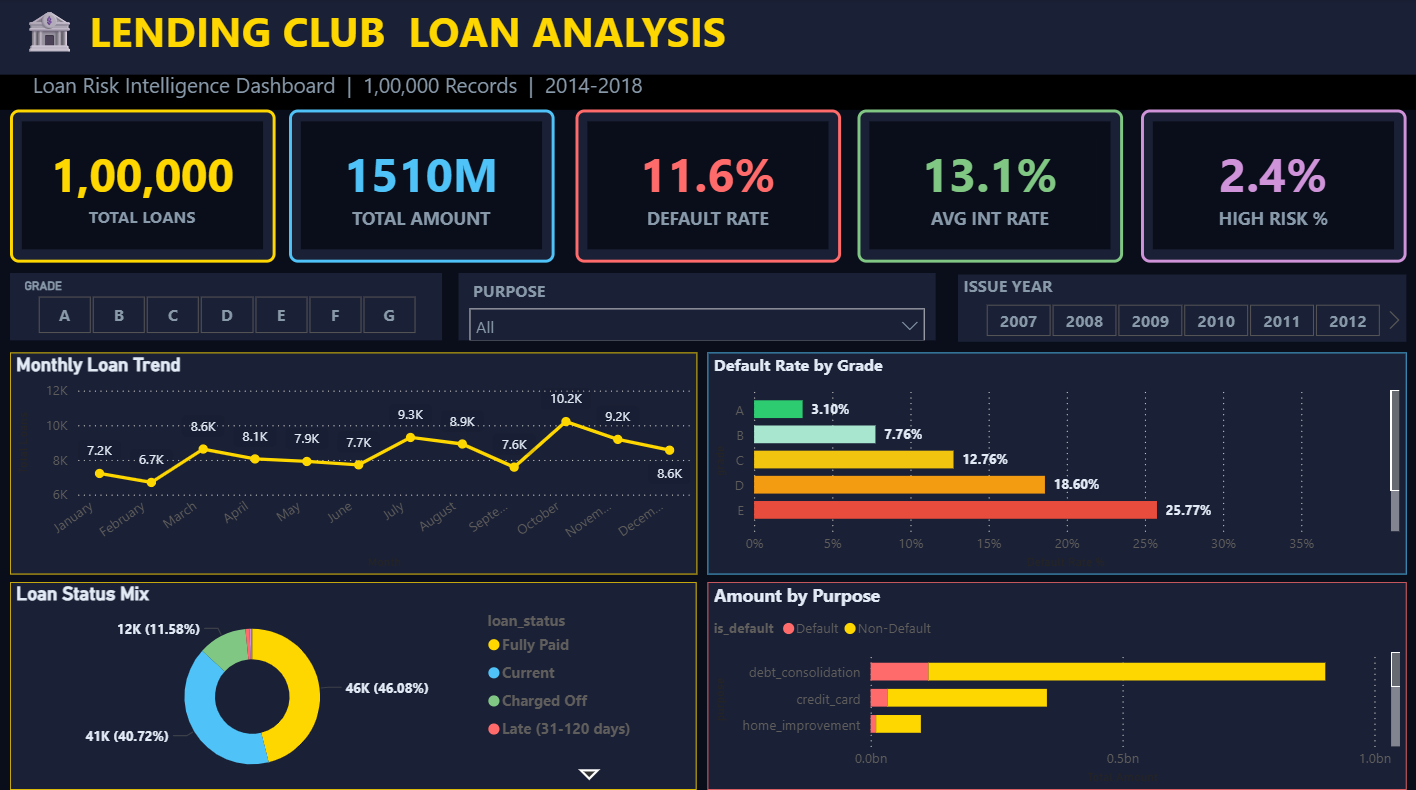

The dashboard page shown, as its layout file describes it:
{"tool":"powerbi","page":{"name":"Page 1","canvas":[1280,720],"ordinal":0},"visuals":[{"type":"shape","box":[0,0,1280,70],"z":0,"group":"g1"},{"type":"textbox","box":[0,60.6,1279.5,40.9],"z":0},{"type":"group","id":"g1","title":"Group 1","box":[0,0,1279.5,69.7],"z":1000},{"type":"textbox","box":[0,0,676.8,60.6],"z":1000,"group":"g1"},{"type":"cardVisual","fields":{"Data":["loan_clean.Total Loans"]},"box":[10.8,101.4,239.3,137.9],"z":2000},{"type":"cardVisual","fields":{"Data":["loan_clean.Total Amount"]},"box":[262.2,101.4,239.3,137.9],"z":3000},{"type":"cardVisual","fields":{"Data":["loan_clean.Default Rate %"]},"box":[520.4,101.4,239.3,137.9],"z":4000},{"type":"cardVisual","fields":{"Data":["loan_clean.Avg Interest Rate"]},"box":[774.5,101.4,239.3,137.9],"z":5000},{"type":"cardVisual","fields":{"Data":["loan_clean.High Risk %"]},"box":[1030,101.4,239.3,137.9],"z":6000},{"type":"slicer","fields":{"Values":["loan_clean.grade"]},"box":[10.8,248.7,389.3,60.8],"z":7000},{"type":"slicer","fields":{"Values":["loan_clean.purpose"]},"box":[415,248.7,429.8,60.8],"z":8000},{"type":"slicer","title":"ISSUE YEAR","fields":{"Values":["loan_clean.issue_year"]},"box":[865.1,250.1,404.2,60.8],"z":9000},{"type":"lineChart","title":"Monthly Loan Trend","fields":{"Y":["loan_clean.Total Loans"],"Category":["loan_clean.issue_date.Variation.Date Hierarchy.Month"]},"box":[10.8,320.4,619.1,200.1],"z":10000},{"type":"clusteredBarChart","title":"Default Rate by Grade","fields":{"Category":["loan_clean.grade"],"Y":["loan_clean.Default Rate %"]},"box":[639.4,320.4,629.9,200.1],"z":11000},{"type":"donutChart","title":" Loan Status Mix","fields":{"Category":["loan_clean.loan_status"],"Y":["loan_clean.Total Loans"]},"box":[11.4,527.1,618.6,187.1],"z":12000},{"type":"barChart","title":"Amount by Purpose","fields":{"Category":["loan_clean.purpose"],"Y":["loan_clean.Total Amount"],"Series":["loan_clean.is_default"]},"box":[640,527.1,630,187.1],"z":13000}]}

Visuals, with their boxes in screenshot pixels (x1, y1, x2, y2), scaled from the page's 1280x720 canvas onto the 1416x790 screenshot:
shape: pyautogui.locateOnScreen(0, 0, 1415, 77)
textbox: pyautogui.locateOnScreen(0, 66, 1415, 111)
"Group 1" group: pyautogui.locateOnScreen(0, 0, 1415, 76)
textbox: pyautogui.locateOnScreen(0, 0, 749, 66)
cardVisual - loan_clean.Total Loans: pyautogui.locateOnScreen(12, 111, 277, 263)
cardVisual - loan_clean.Total Amount: pyautogui.locateOnScreen(290, 111, 555, 263)
cardVisual - loan_clean.Default Rate %: pyautogui.locateOnScreen(576, 111, 840, 263)
cardVisual - loan_clean.Avg Interest Rate: pyautogui.locateOnScreen(857, 111, 1122, 263)
cardVisual - loan_clean.High Risk %: pyautogui.locateOnScreen(1139, 111, 1404, 263)
slicer - loan_clean.grade: pyautogui.locateOnScreen(12, 273, 443, 340)
slicer - loan_clean.purpose: pyautogui.locateOnScreen(459, 273, 935, 340)
"ISSUE YEAR" slicer: pyautogui.locateOnScreen(957, 274, 1404, 341)
"Monthly Loan Trend" lineChart: pyautogui.locateOnScreen(12, 352, 697, 571)
"Default Rate by Grade" clusteredBarChart: pyautogui.locateOnScreen(707, 352, 1404, 571)
" Loan Status Mix" donutChart: pyautogui.locateOnScreen(13, 578, 697, 784)
"Amount by Purpose" barChart: pyautogui.locateOnScreen(708, 578, 1405, 784)
